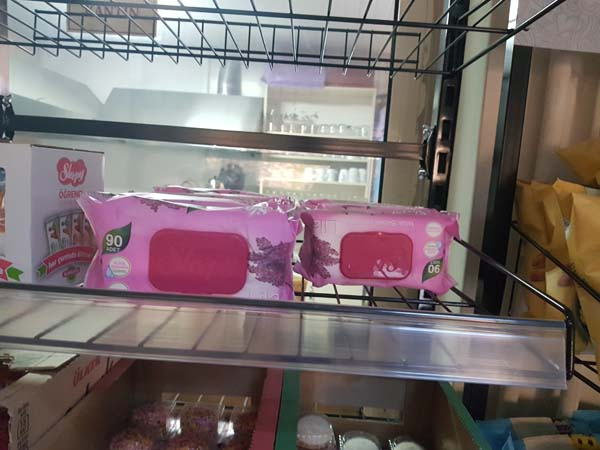sleepyislakmendil: (80, 192, 296, 302), (302, 201, 458, 294)
